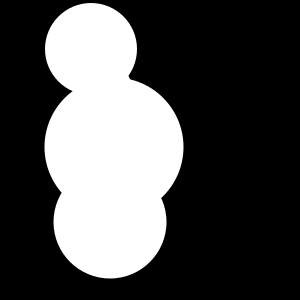rectangle: (44, 77, 184, 216), (53, 166, 166, 278), (45, 3, 137, 95)
triangle: (84, 52, 149, 117)
